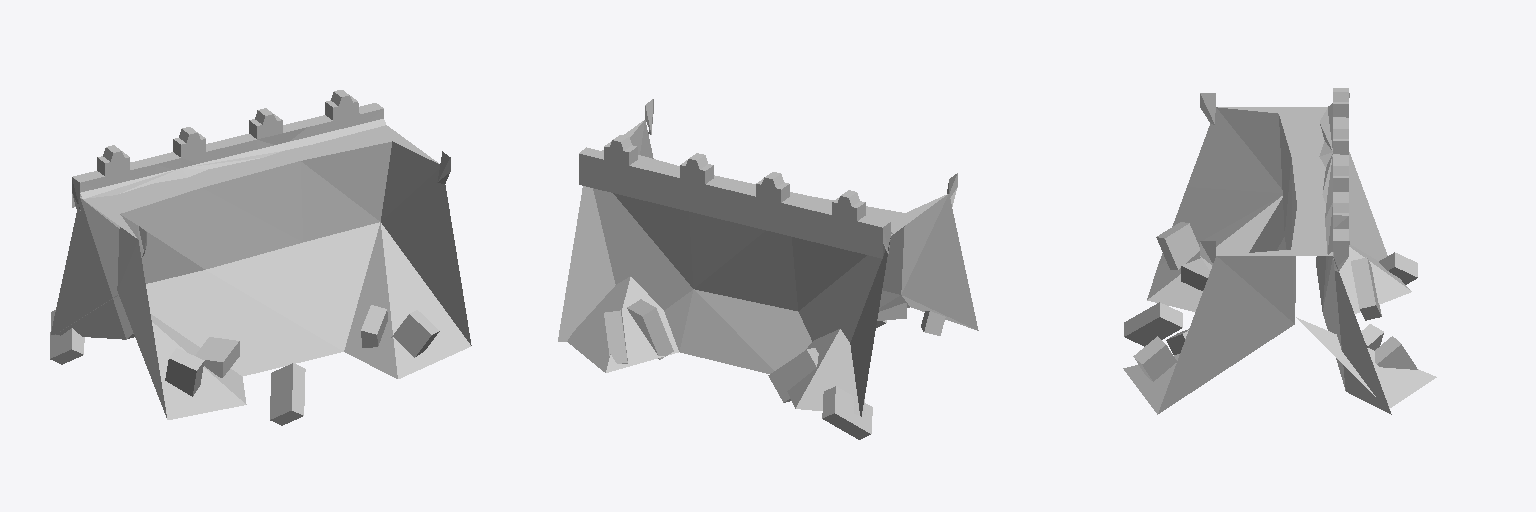
File: templeStraightNarrowSmallDownHorz_prefab.obj
3 views of the same model, side by side, from view 1: azimuth 30°, elevation 25°; view 2: azimuth 150°, elevation 25°; view 3: azimuth 270°, elevation 25° (orthographic).
Visible parts, largest first — view 1: Object56-Pivot; view 2: Object56-Pivot; view 3: Object56-Pivot.
Boxes of the visible parts, x1=… form: Object56-Pivot: x1=50, y1=90, x2=471, y2=425; Object56-Pivot: x1=558, y1=99, x2=978, y2=439; Object56-Pivot: x1=1123, y1=88, x2=1436, y2=414.
Size of the model in its own units: 61.12 by 42.13 by 53.73.